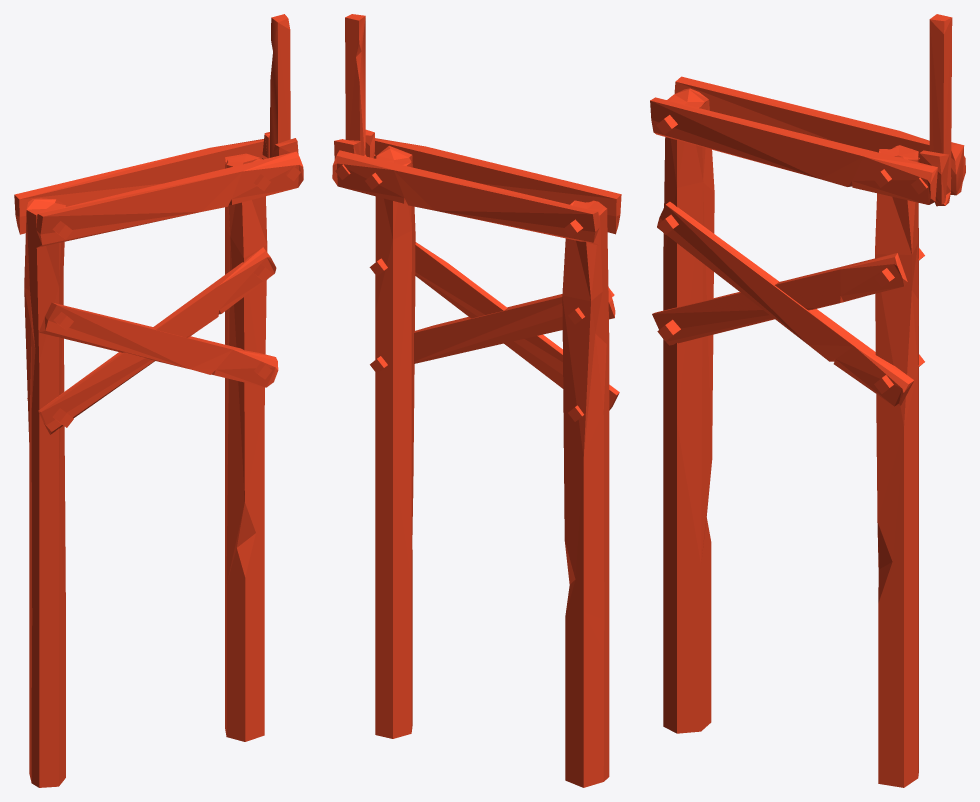
File: SM_Pier_Pillars_Railing_B_City.fbx
3 renders of one model, left to right at view 1: azimuth 30°, elevation 25°; view 2: azimuth 150°, elevation 25°; view 3: azimuth 330°, elevation 25°, orthographic. The views are drawn at different scales.
Visible parts, largest first — view 1: SM_Pier_Pillars_Railing_B_City; view 2: SM_Pier_Pillars_Railing_B_City; view 3: SM_Pier_Pillars_Railing_B_City.
Boxes of the visible parts, bbox=[...] form: SM_Pier_Pillars_Railing_B_City: bbox=[14, 14, 303, 787]; SM_Pier_Pillars_Railing_B_City: bbox=[332, 14, 621, 787]; SM_Pier_Pillars_Railing_B_City: bbox=[650, 14, 965, 787].
Bounding box in the file's own units: 2.98 × 7.57 × 0.7537.
